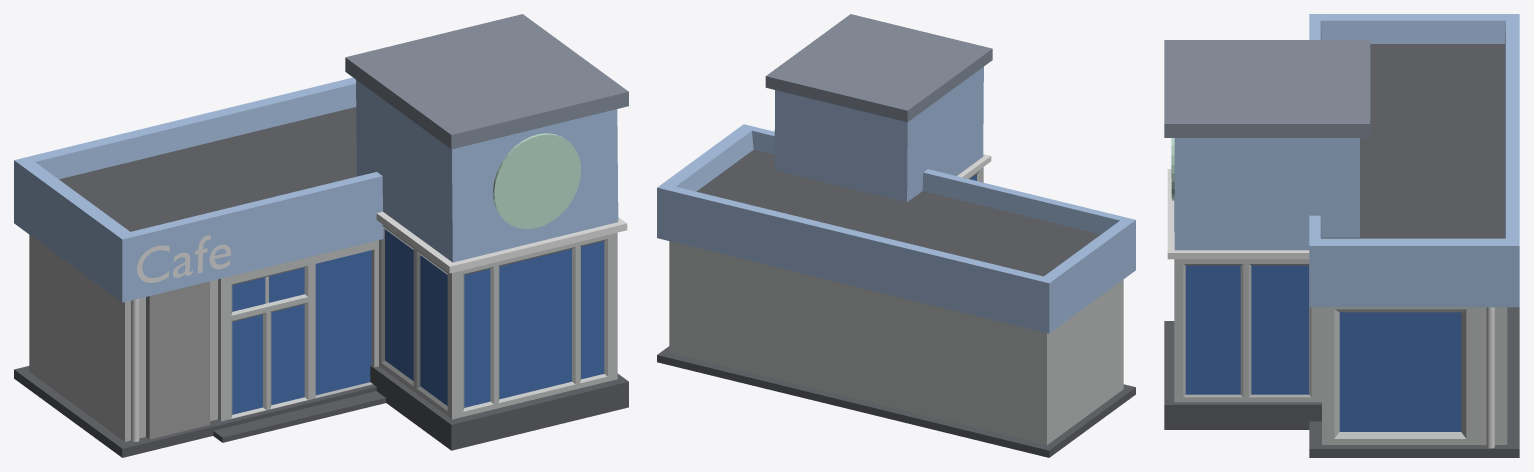
File: CAFE.fbx
3 views of the same model, side by side, from view 1: azimuth 30°, elevation 25°; view 2: azimuth 150°, elevation 25°; view 3: azimuth 270°, elevation 25° (orthographic). The views are drawn at different scales.
Parts seen in each view (by area): view 1: Cube.006, Cube.010, Cube.009, Cube.001, Cube.003, Cube, Cube.007, Cube.002, Cube.008, Cylinder.002, Cube.004, Text (+1 smaller); view 2: Cube.006, Cube, Cube.001, Cube.003, Cube.008; view 3: Cube.006, Cube, Cube.010, Cube.003, Cube.001, Cube.002, Cube.008, Cube.004, Cylinder.001.
Part boxes in pixels (x1=…): Cube.006: x1=14, y1=77, x2=383, y2=302; Cube.010: x1=379, y1=225, x2=617, y2=419; Cube.009: x1=218, y1=240, x2=378, y2=421; Cube.001: x1=356, y1=80, x2=618, y2=262; Cube.003: x1=345, y1=14, x2=628, y2=149; Cube: x1=29, y1=235, x2=217, y2=441; Cube.007: x1=146, y1=281, x2=209, y2=439; Cube.002: x1=370, y1=365, x2=628, y2=450; Cube.008: x1=14, y1=366, x2=385, y2=457; Cylinder.002: x1=493, y1=133, x2=580, y2=229; Cube.004: x1=376, y1=211, x2=627, y2=273; Text: x1=137, y1=235, x2=230, y2=282; Cube.006: x1=657, y1=124, x2=1135, y2=333; Cube: x1=669, y1=241, x2=1123, y2=444; Cube.001: x1=774, y1=67, x2=983, y2=202; Cube.003: x1=765, y1=14, x2=992, y2=122; Cube.008: x1=657, y1=346, x2=1135, y2=457; Cube.006: x1=1309, y1=14, x2=1519, y2=307; Cube: x1=1322, y1=307, x2=1507, y2=444; Cube.010: x1=1174, y1=259, x2=1321, y2=402; Cube.003: x1=1164, y1=40, x2=1370, y2=137; Cube.001: x1=1174, y1=138, x2=1359, y2=250; Cube.002: x1=1164, y1=321, x2=1321, y2=429; Cube.008: x1=1309, y1=307, x2=1519, y2=457; Cube.004: x1=1167, y1=169, x2=1309, y2=259; Cylinder.001: x1=1486, y1=307, x2=1494, y2=448.
Bounding box in the file's own units: 592 × 365 × 383.
